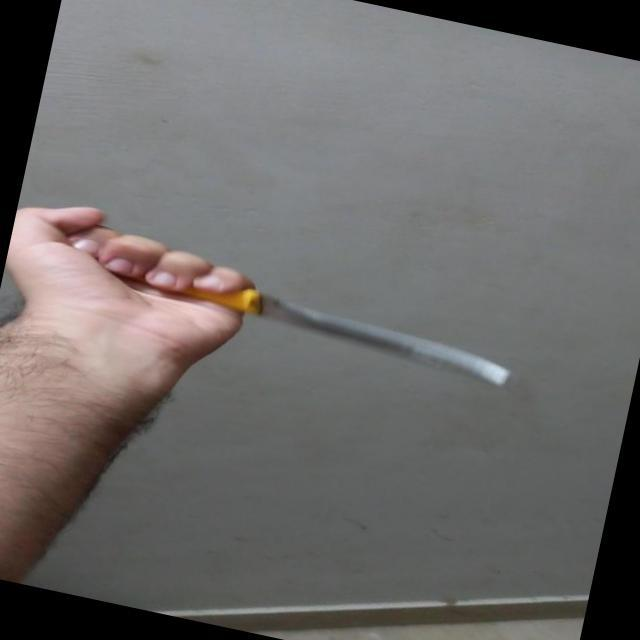Knife: (3, 188, 539, 414)
